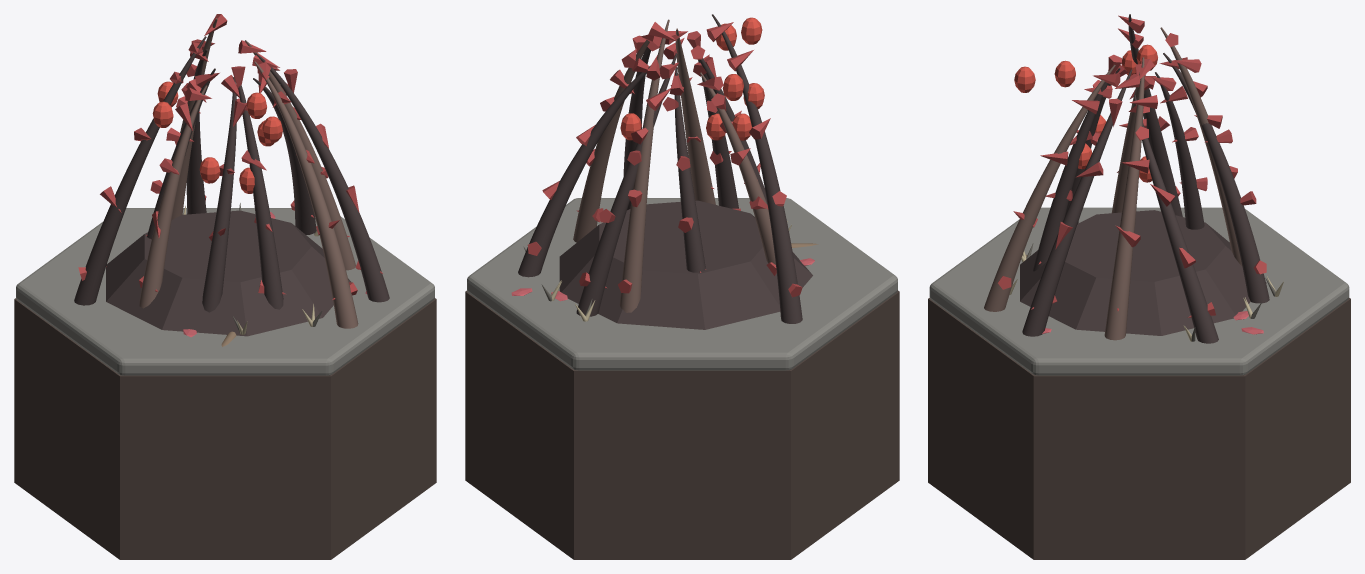
File: hex_thornwall.glb
3 views of the same model, side by side, from view 1: azimuth 30°, elevation 25°; view 2: azimuth 150°, elevation 25°; view 3: azimuth 270°, elevation 25° (orthographic). The views are drawn at different scales.
Parts seen in each view (by area): view 1: hex_thornwall; view 2: hex_thornwall; view 3: hex_thornwall.
Part boxes in pixels (<box>): hex_thornwall: <box>14,14,436,559</box>; hex_thornwall: <box>465,14,899,559</box>; hex_thornwall: <box>928,14,1350,559</box>.
Size of the model in its own units: 1.7 by 2.33 by 1.96.
